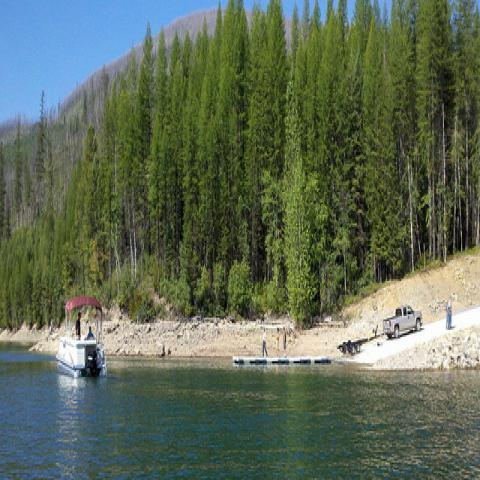truck: (384, 307, 421, 341)
